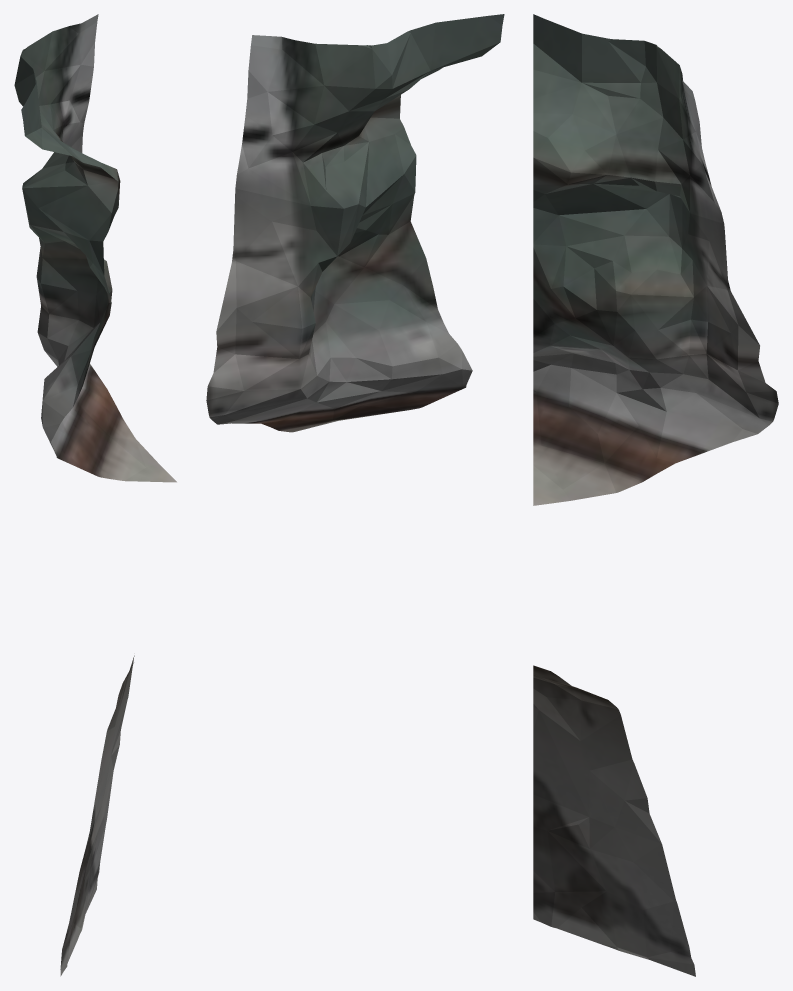
The picture shows the model from 3 angles, left to right: view 1: azimuth 30°, elevation 25°; view 2: azimuth 150°, elevation 25°; view 3: azimuth 270°, elevation 25°; orthographic projection. The views are drawn at different scales.
Size of the model in its own units: 0.1562 by 0.8373 by 0.2104.
1 material, 1 textured.
